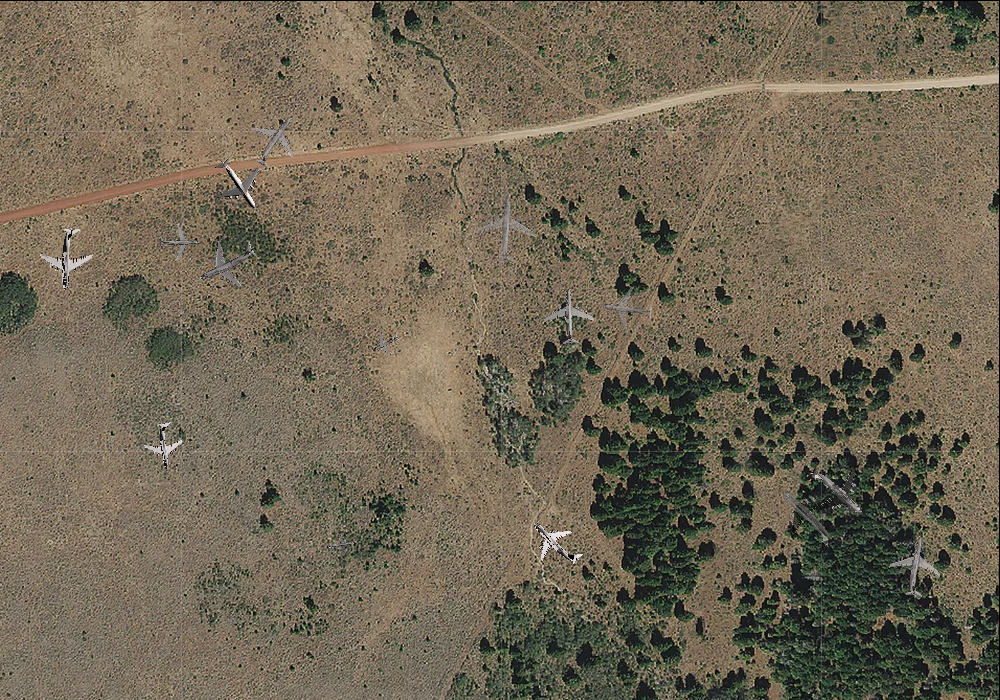plane: (757, 469, 855, 568), (789, 446, 882, 539), (186, 223, 267, 302), (236, 102, 314, 180), (199, 145, 276, 223), (517, 503, 594, 581), (472, 194, 540, 265), (883, 533, 949, 602), (37, 226, 98, 290), (598, 281, 656, 336), (542, 288, 596, 345), (139, 419, 190, 471), (158, 222, 198, 261), (366, 324, 404, 362), (324, 530, 356, 561)
